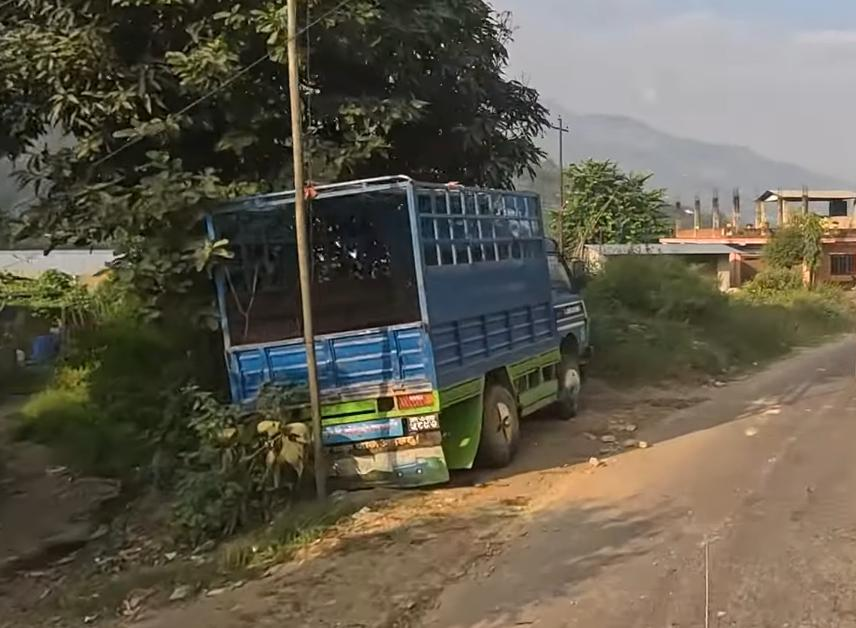mini_truck: (225, 167, 605, 477)
